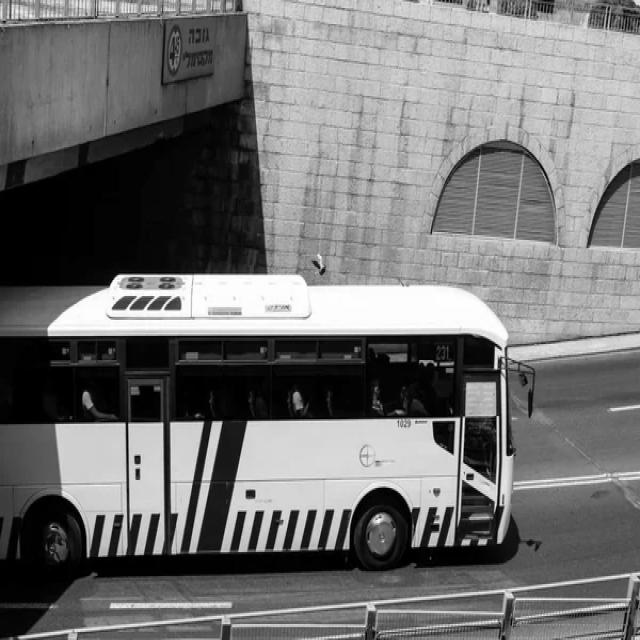Bus: (0, 274, 515, 570)
